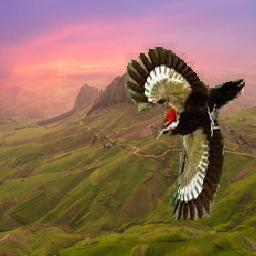Woodpecker: (123, 44, 246, 221)
